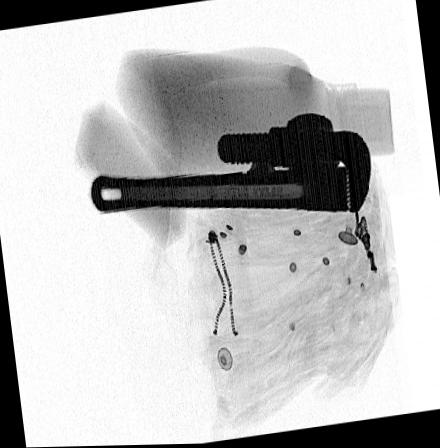Wrench: (89, 111, 372, 215)
